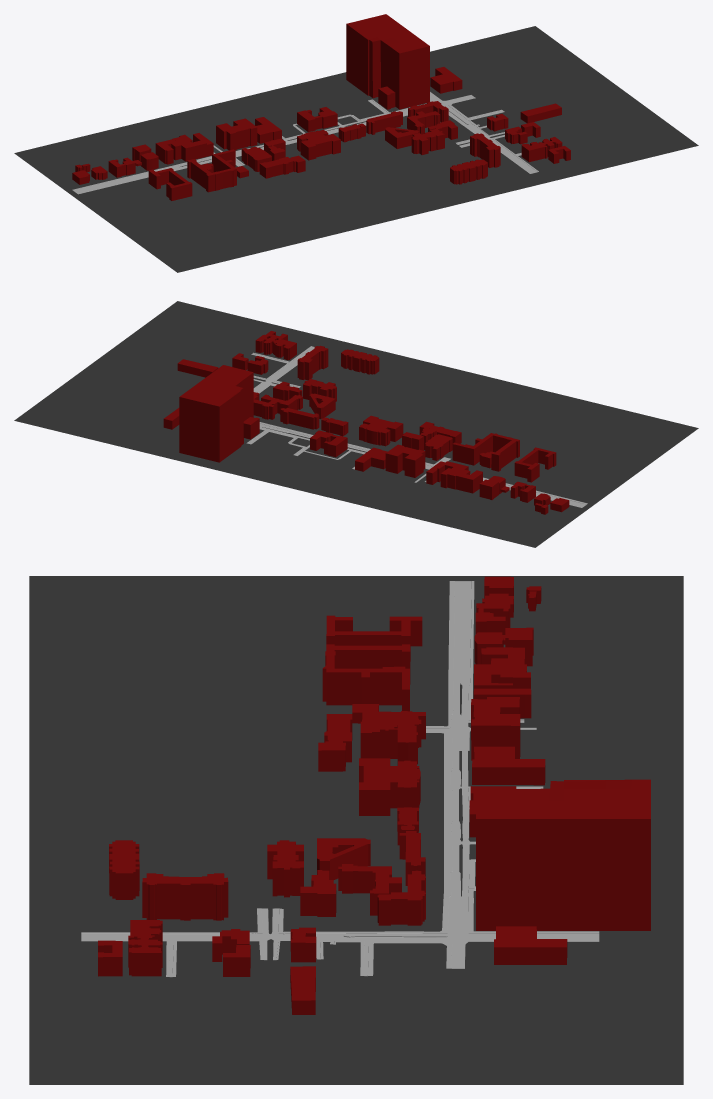
The model's file is Gnv_Scene.fbx.
3 renders of one model, top to bottom at view 1: azimuth 30°, elevation 25°; view 2: azimuth 150°, elevation 25°; view 3: azimuth 270°, elevation 25°, orthographic. The views are drawn at different scales.
Parts seen in each view (by area): view 1: pPlane1, polySurface1344, Road_re, polySurface1348, polySurface1620, polySurface1387, polySurface1384, polySurface1532, polySurface1381, polySurface1386, polySurface1444, polySurface1618 (+12 smaller); view 2: pPlane1, polySurface1344, Road_re, polySurface1348, polySurface1620, polySurface1387, polySurface1384, polySurface1444, polySurface1381, polySurface1532, polySurface1529, polySurface1618 (+13 smaller); view 3: pPlane1, polySurface1344, Road_re, polySurface1348, polySurface1444, polySurface1387, polySurface1620, polySurface1619, polySurface1451, polySurface1384, polySurface1532, polySurface1379 (+17 smaller).
Boxes of the visible parts, box(x1,y1,x2,y2) form: pPlane1: box(14, 26, 698, 272); polySurface1344: box(346, 14, 429, 109); Road_re: box(72, 91, 538, 194); polySurface1348: box(187, 149, 236, 192); polySurface1620: box(216, 118, 257, 150); polySurface1387: box(297, 130, 340, 160); polySurface1384: box(148, 168, 192, 200); polySurface1532: box(172, 133, 213, 161); polySurface1381: box(450, 159, 487, 184); polySurface1386: box(259, 155, 305, 178); polySurface1444: box(470, 133, 500, 167); polySurface1618: box(297, 107, 337, 132); pPlane1: box(14, 301, 698, 547); polySurface1344: box(179, 365, 253, 462); Road_re: box(246, 346, 587, 507); polySurface1348: box(452, 433, 519, 471); polySurface1620: box(385, 444, 425, 477); polySurface1387: box(359, 415, 403, 446); polySurface1384: box(514, 447, 556, 482); polySurface1444: box(297, 345, 328, 380); polySurface1381: box(341, 349, 379, 374); polySurface1532: box(426, 461, 468, 489); polySurface1529: box(255, 334, 296, 360); polySurface1618: box(310, 430, 347, 457); pPlane1: box(29, 576, 683, 1084); polySurface1344: box(476, 779, 650, 930); Road_re: box(81, 581, 599, 977); polySurface1348: box(322, 644, 410, 711); polySurface1444: box(142, 873, 228, 920); polySurface1387: box(359, 758, 420, 815); polySurface1620: box(471, 697, 520, 760); polySurface1619: box(472, 746, 545, 785); polySurface1451: box(494, 926, 567, 964); polySurface1384: box(326, 615, 422, 661); polySurface1532: box(473, 664, 531, 718); polySurface1379: box(360, 721, 417, 765).
Bounding box in the file's own units: 1860 × 202 × 1011.
